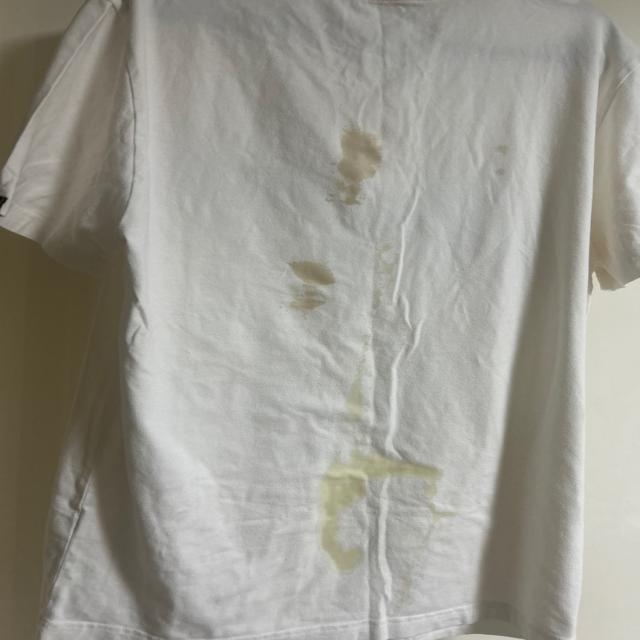stain: (304, 448, 418, 572), (333, 127, 390, 205), (395, 449, 451, 509), (279, 258, 334, 316), (332, 354, 373, 427), (412, 489, 465, 524), (370, 242, 388, 315), (488, 160, 520, 188), (494, 136, 514, 156)
